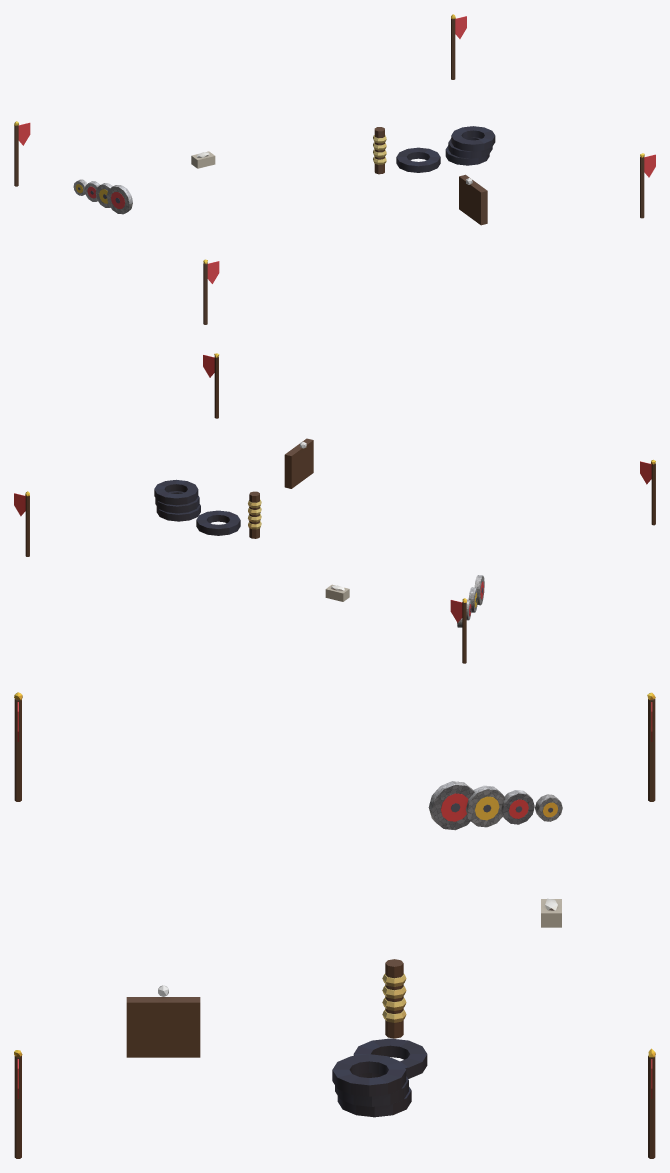
Rendered from area_gym_3_5.fbx.
3 views of the same model, one above another, from view 1: azimuth 30°, elevation 25°; view 2: azimuth 150°, elevation 25°; view 3: azimuth 270°, elevation 25° (orthographic). The views are drawn at different scales.
Parts seen in each view (by area): view 1: area_gym_3_5_body; view 2: area_gym_3_5_body; view 3: area_gym_3_5_body.
Part boxes in pixels (x1,y1,x2,y2): area_gym_3_5_body: [14, 14, 655, 324]; area_gym_3_5_body: [14, 353, 655, 663]; area_gym_3_5_body: [14, 692, 655, 1158].
Bounding box in the file's own units: 16591 × 2279 × 12162.
2 materials, 1 textured.
